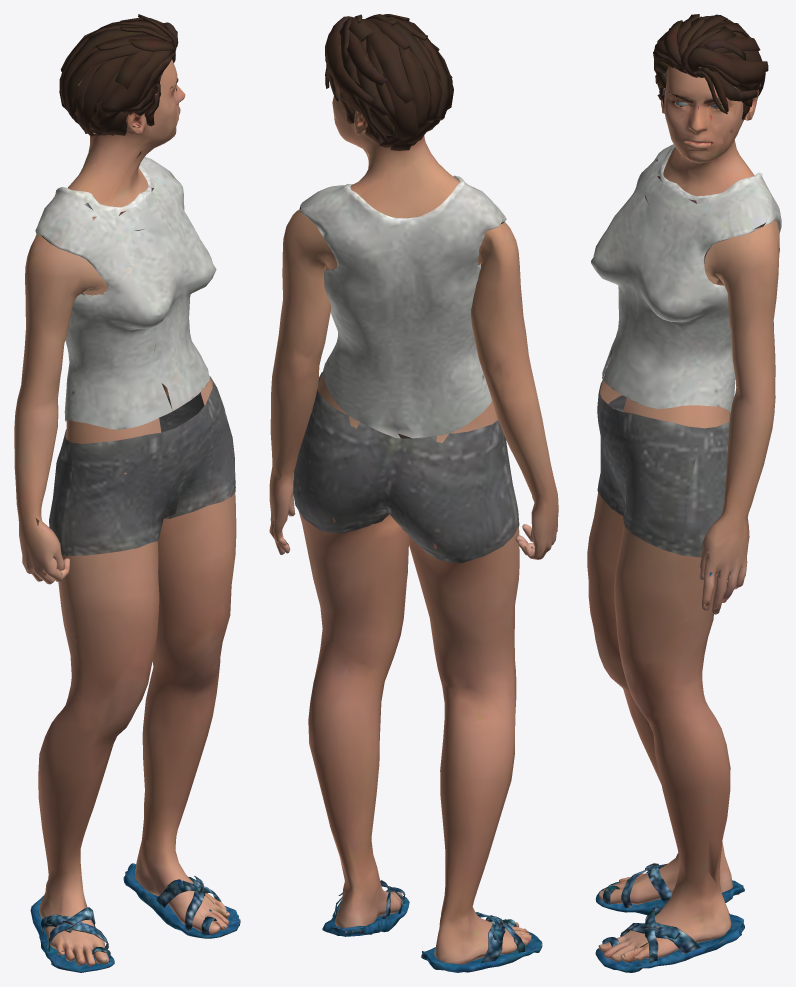
3 renders of one model, left to right at view 1: azimuth 30°, elevation 25°; view 2: azimuth 150°, elevation 25°; view 3: azimuth 270°, elevation 25°, orthographic. The views are drawn at different scales.
Visible parts, largest first — view 1: p03372; view 2: p03372; view 3: p03372.
Part boxes in pixels (x1,y1,x2,y2): p03372: (14, 14, 240, 972); p03372: (269, 14, 558, 972); p03372: (587, 14, 781, 972).
Bounding box in the file's own units: 0.4574 × 1.63 × 0.3096.
Materials: 1 (1 with a texture image).
